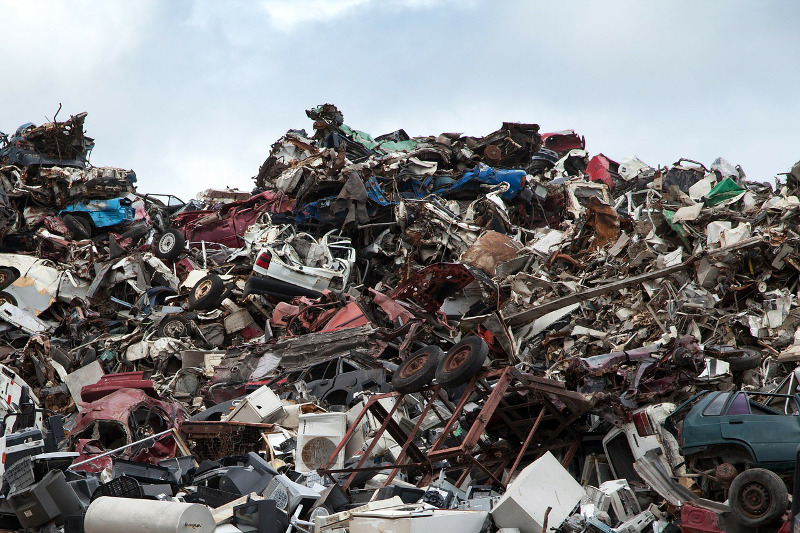Tanque: (90, 493, 217, 531)
electrodomesticos: (511, 448, 573, 529), (288, 404, 344, 474), (229, 384, 279, 422)
llanta: (728, 469, 776, 514), (449, 336, 484, 379), (397, 345, 439, 379), (188, 274, 224, 300), (157, 231, 179, 254), (163, 314, 185, 332)
